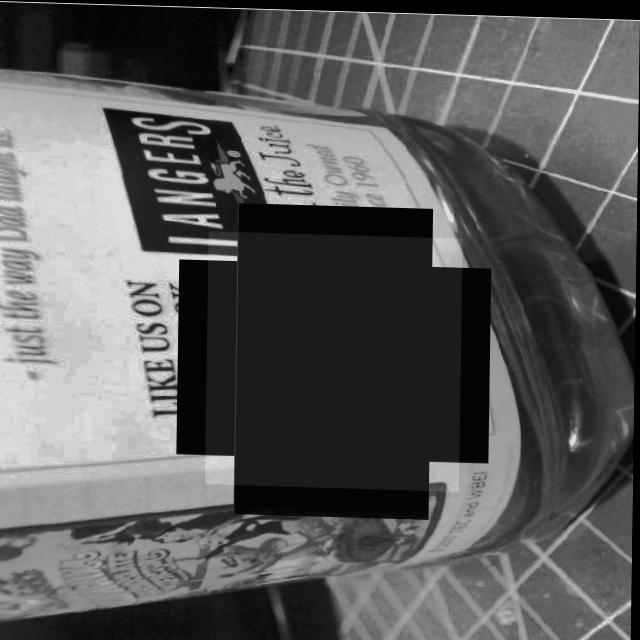qr_code: (206, 229, 463, 488)
